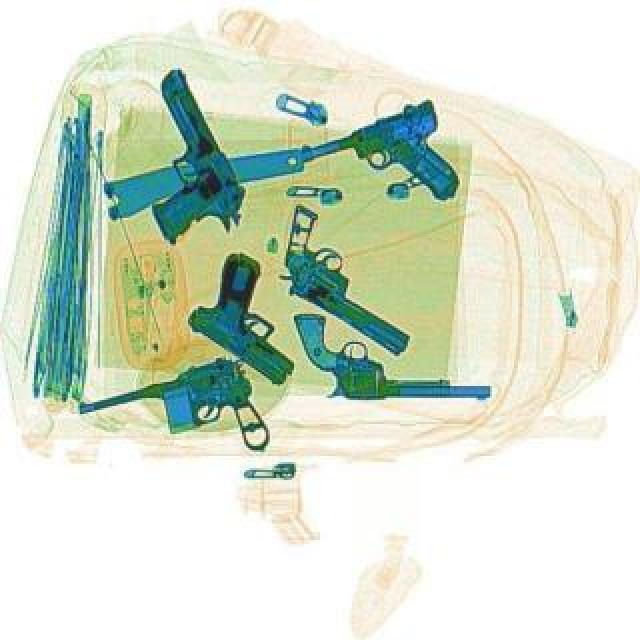gun: (94, 62, 260, 256), (250, 200, 442, 354), (70, 348, 272, 488), (292, 96, 468, 236), (174, 242, 338, 386), (292, 310, 492, 398)
